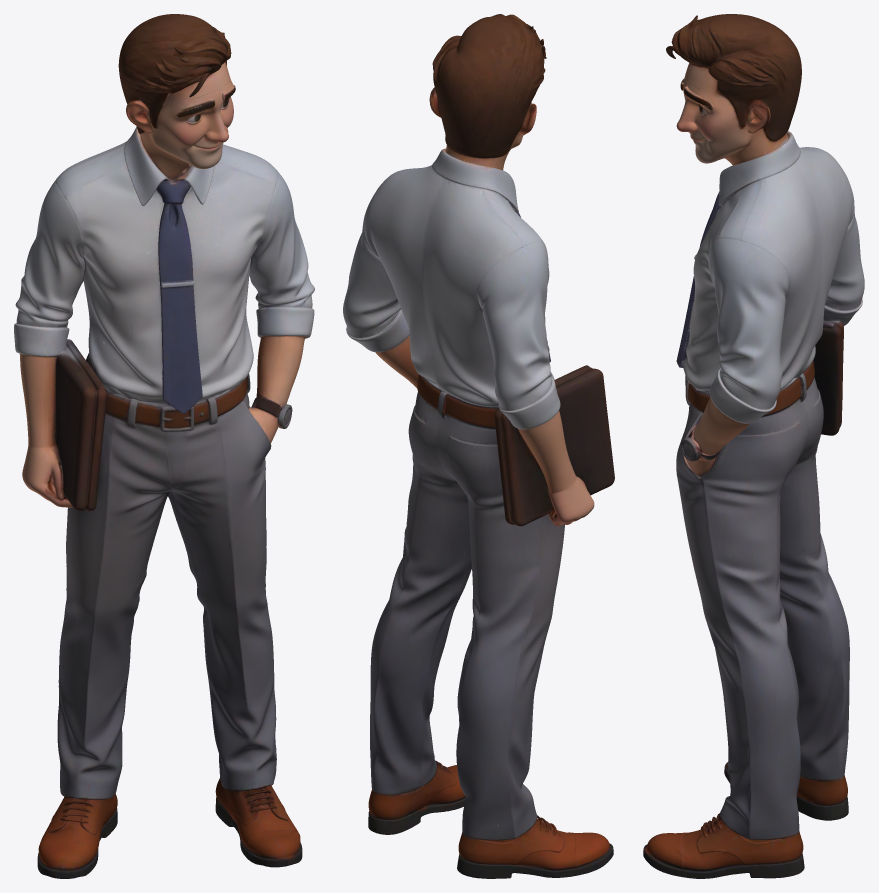
File: careers.glb
The picture shows the model from 3 angles, left to right: view 1: azimuth 30°, elevation 25°; view 2: azimuth 150°, elevation 25°; view 3: azimuth 270°, elevation 25°; orthographic projection. The views are drawn at different scales.
Parts seen in each view (by area): view 1: material; view 2: material; view 3: material.
Part boxes in pixels (<box>): material: <box>14,14,314,878</box>; material: <box>343,14,614,878</box>; material: <box>643,14,864,878</box>.
Size of the model in its own units: 0.3864 by 1.14 by 0.2821.
Materials: 1 (1 with a texture image).
